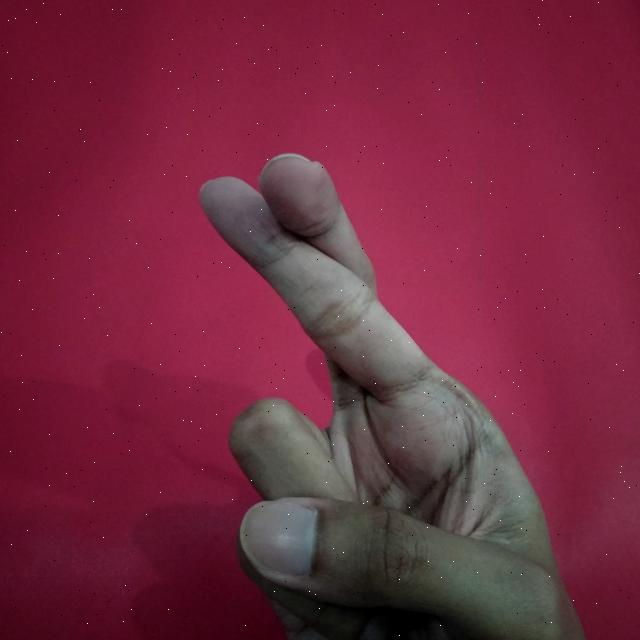R: (200, 145, 591, 640)
